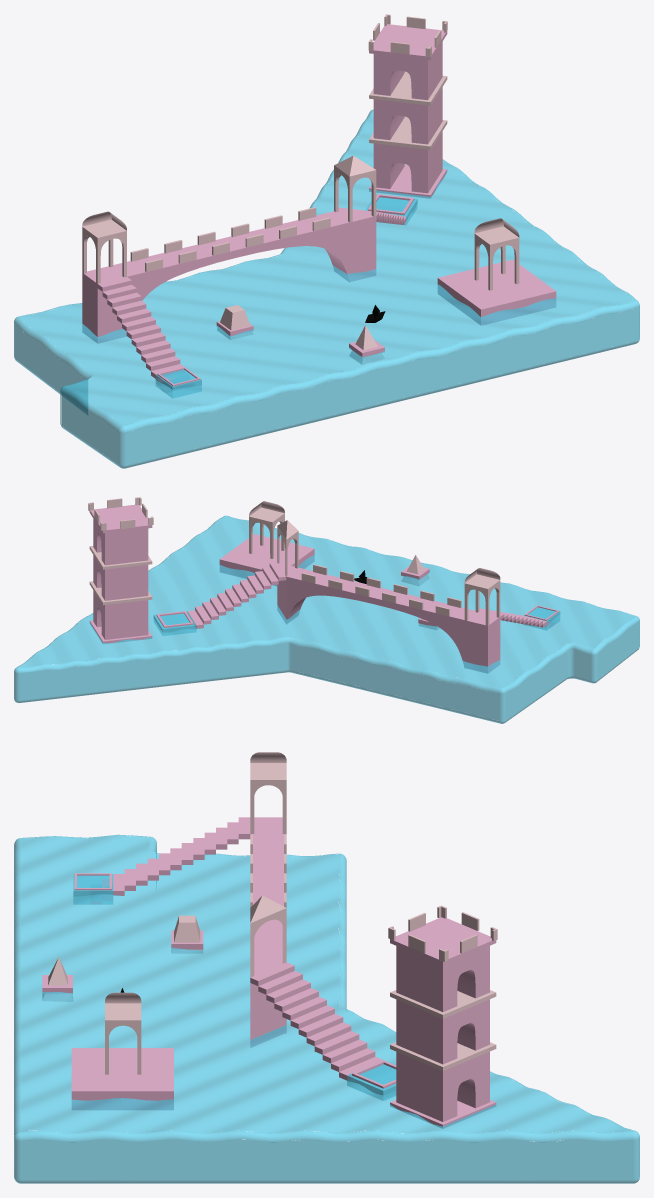
The model's file is 4-resonant-ripples.glb.
The picture shows the model from 3 angles, top to bottom: view 1: azimuth 30°, elevation 25°; view 2: azimuth 150°, elevation 25°; view 3: azimuth 270°, elevation 25°; orthographic projection. The views are drawn at different scales.
Bounding box in the file's own units: 0.0313 × 0.011 × 0.0274.
